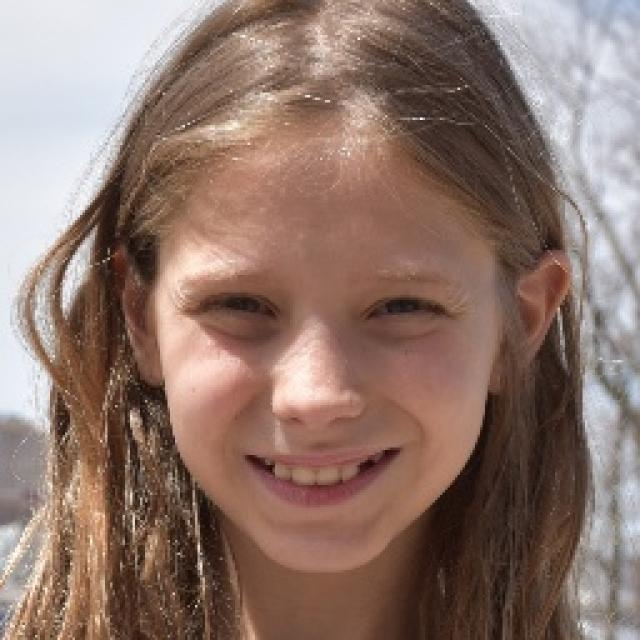earlobe: (488, 250, 575, 393), (109, 242, 167, 388)
